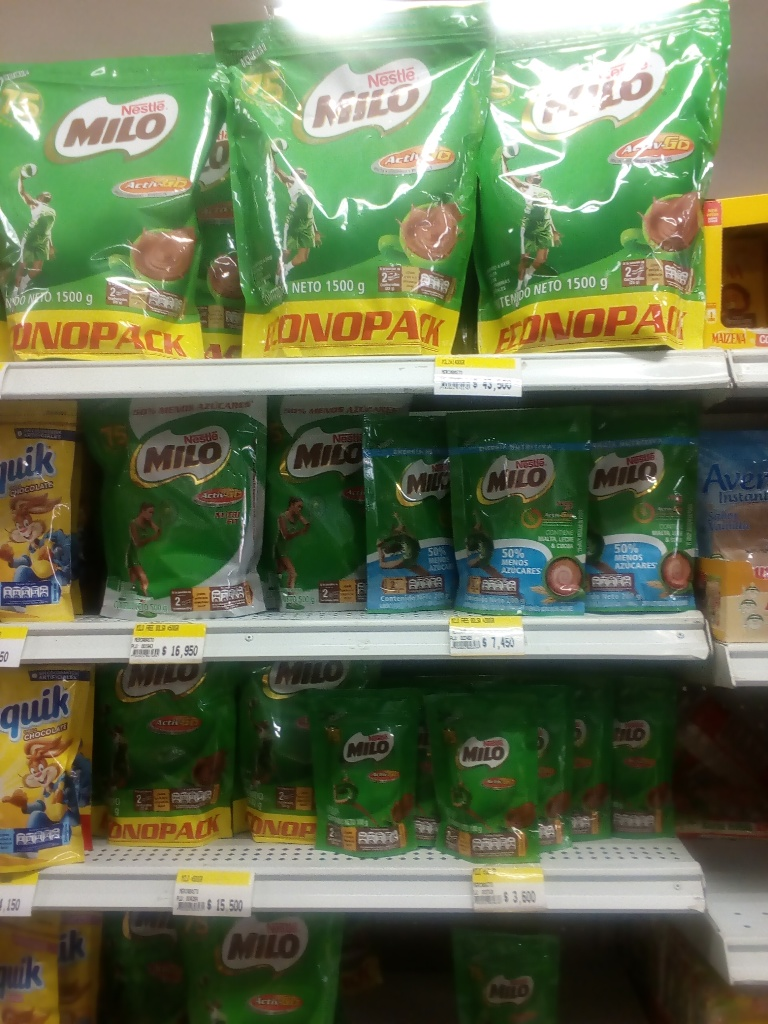COL0170203DYP10000: (322, 692, 430, 859)
COL0170203DYP50000: (92, 665, 234, 847)
COL0170205DYP20000: (439, 406, 585, 617)
COL0170205DYP50000: (97, 399, 266, 620)
